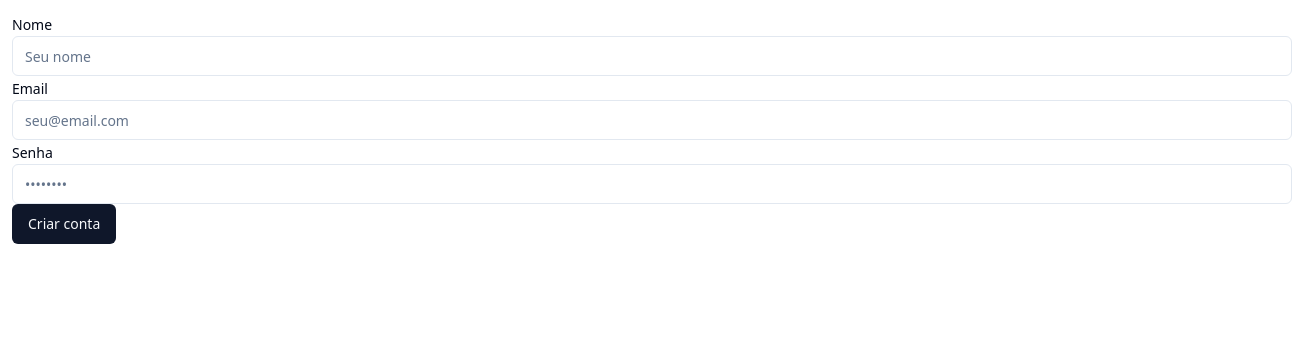
Scenario: RegisterForm › should show error when name is empty
Click the button "Criar conta" at (64, 224), box 12,204 -> 116,244
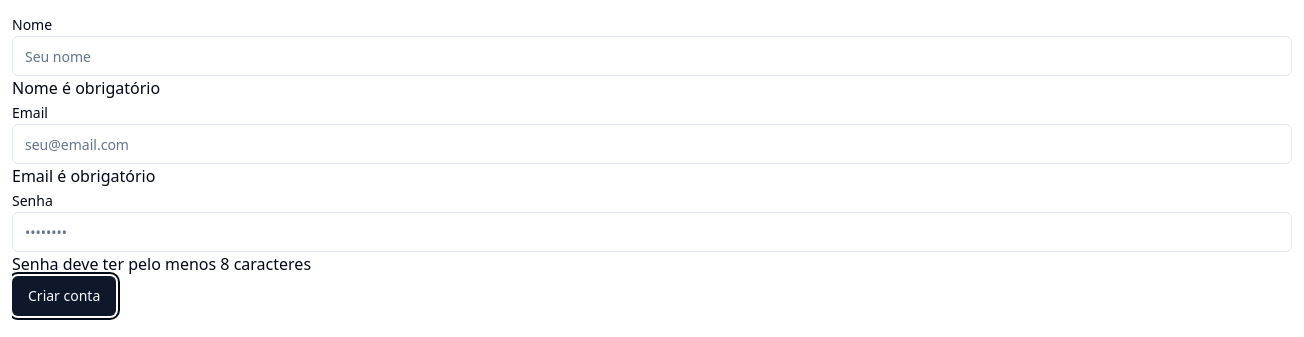
Expected: the text "Nome é obrigatório" is shown, 12,77 -> 160,99
